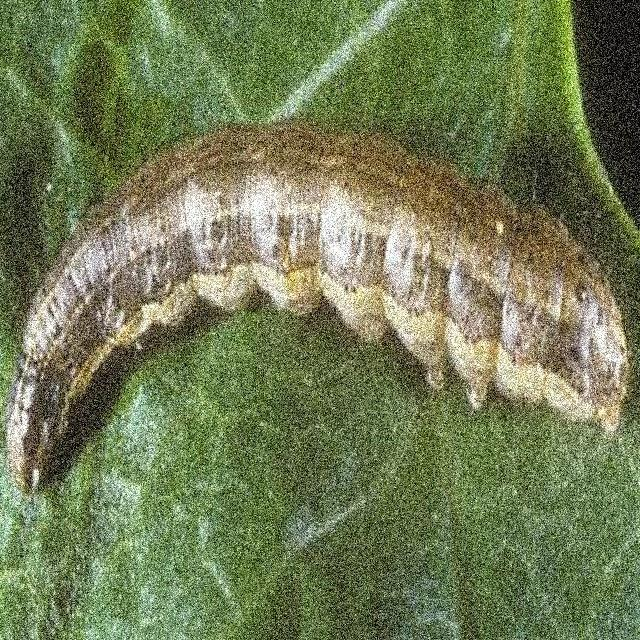Plaga: (13, 126, 630, 493)
